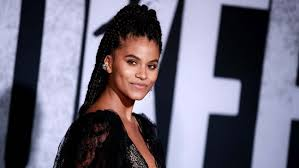black_female: (101, 18, 167, 108)
